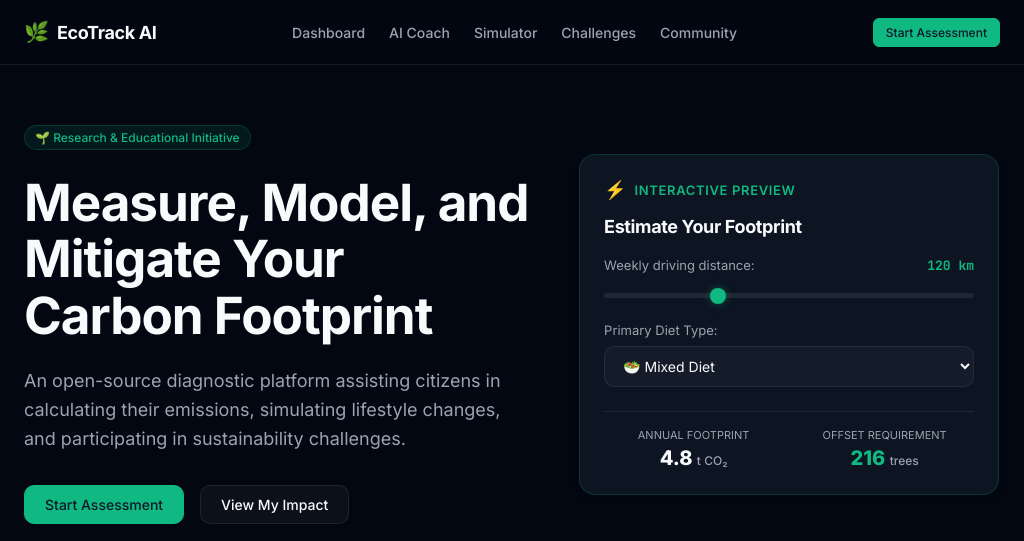
App Integration Flow › can navigate to Dashboard and see score
Click the link "Dashboard".
click(329, 32)  # box x1=292 y1=24 x2=365 y2=40
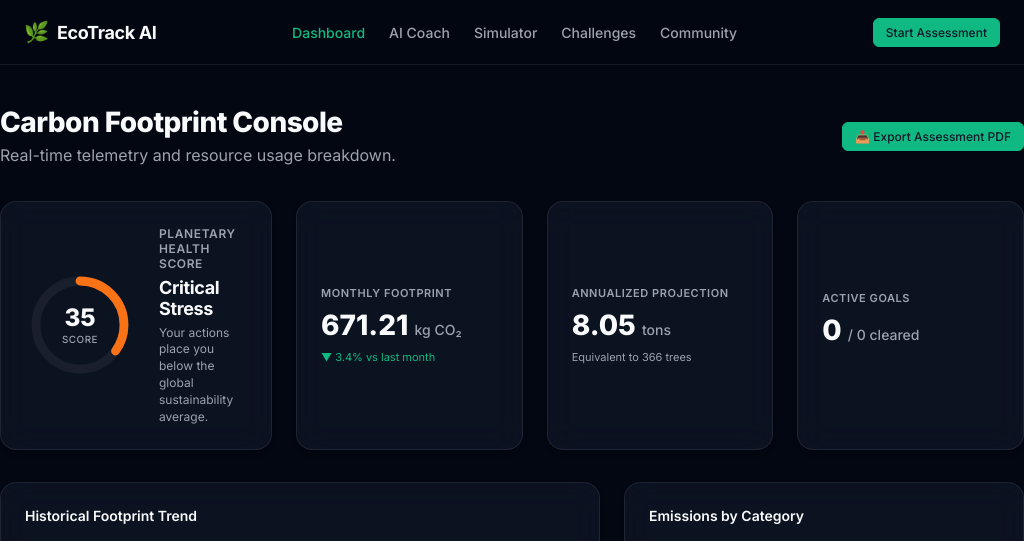
Now the heading "Carbon Footprint Console" is shown, box x1=0 y1=105 x2=396 y2=139
Now the text "Planetary Health Score" is shown, box x1=159 y1=226 x2=247 y2=271
